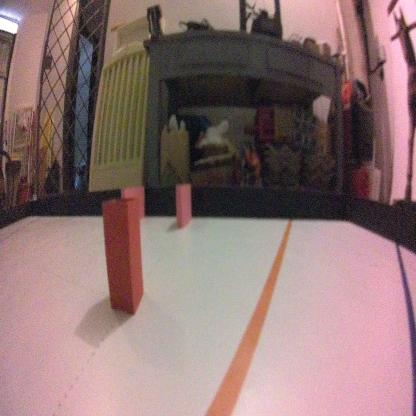magenta: (175, 178, 193, 236)
red: (99, 195, 146, 313)
